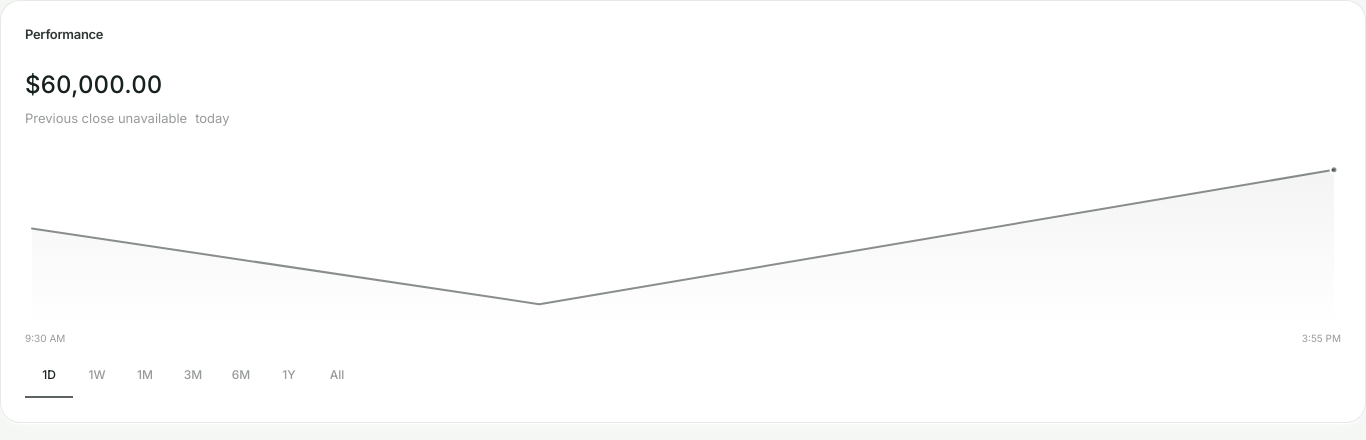
Test case: preserves the 1Y comparison with the first range point
This screenshot has width=1366, height=440.
Expected: the slider is shown, x1=25 y1=146 x2=1341 y2=326
Click the button "1Y" at (289, 376), box x1=265 y1=354 x2=313 y2=398
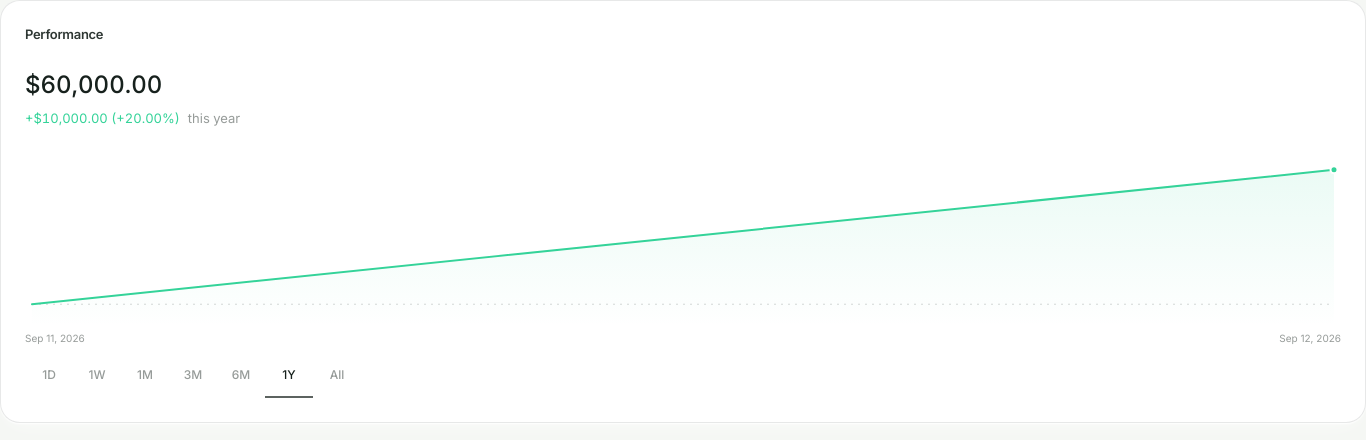
Now the text "+$10,000.00 (+20.00%)" is shown, box x1=25 y1=108 x2=180 y2=128
Press Home in the slider, box x1=25 y1=146 x2=1341 y2=326
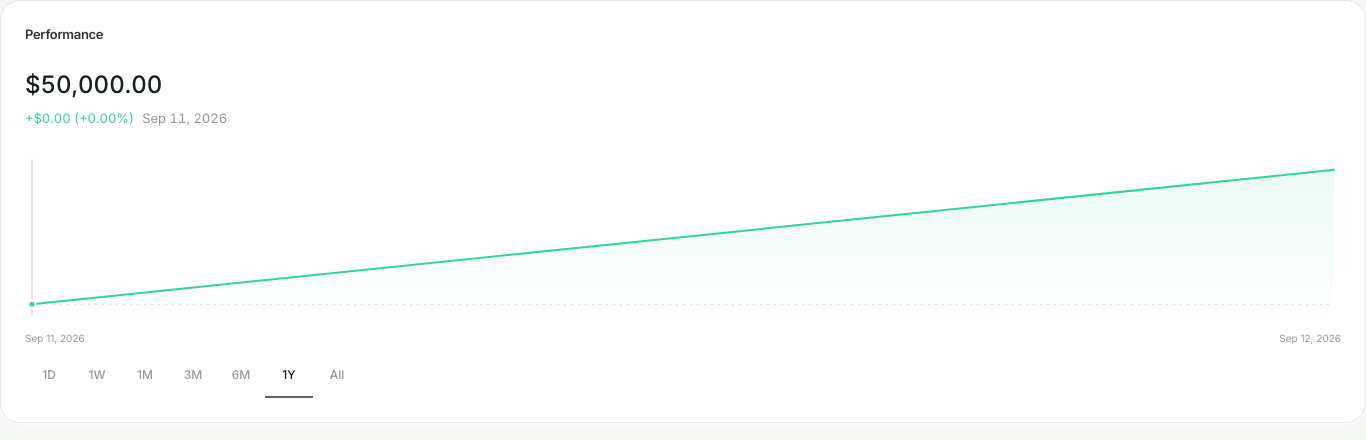
Now the text "+$0.00 (+0.00%)" is shown, box x1=25 y1=108 x2=134 y2=128
